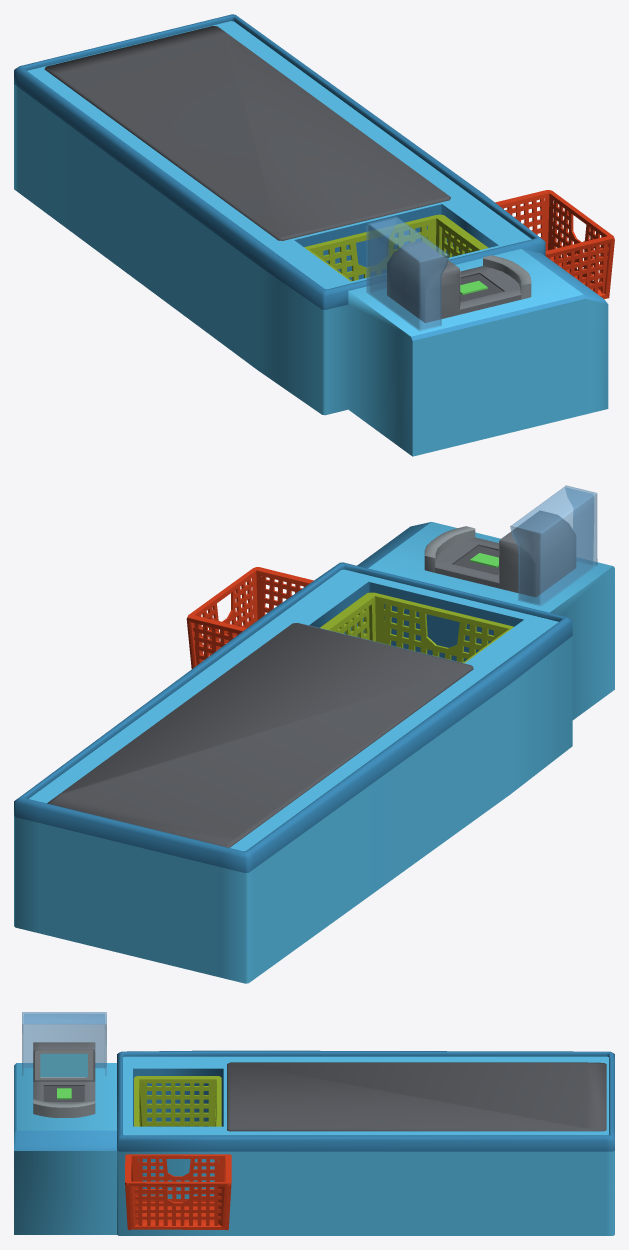
Rendered from Sahne.fbx.
3 views of the same model, one above another, from view 1: azimuth 30°, elevation 25°; view 2: azimuth 150°, elevation 25°; view 3: azimuth 270°, elevation 25° (orthographic). The views are drawn at different scales.
Parts seen in each view (by area): view 1: Cube.001, Cube.002, Cube; view 2: Cube.001, Cube, Cube.002; view 3: Cube.001, Cube.002, Cube.
Boxes of the visible parts, <box> form: Cube.001: <box>14,14,608,456</box>; Cube.002: <box>495,190,614,299</box>; Cube: <box>304,214,488,281</box>; Cube.001: <box>14,485,614,983</box>; Cube: <box>320,592,513,663</box>; Cube.002: <box>186,567,313,668</box>; Cube.001: <box>14,1012,614,1235</box>; Cube.002: <box>125,1154,231,1230</box>; Cube: <box>134,1076,221,1126</box>.
Size of what is drawn, in the model's own units: 128 by 76.42 by 276.
